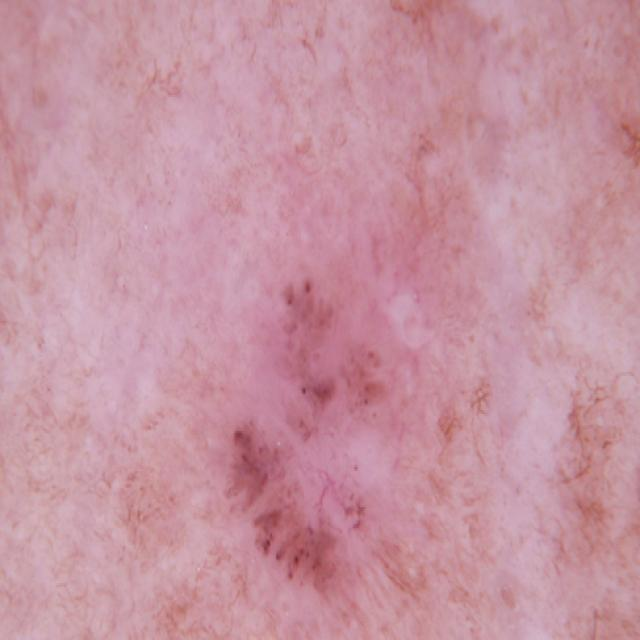Carcinoma: (180, 247, 456, 640)
